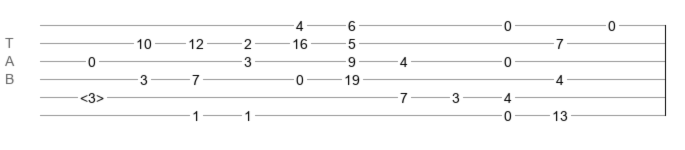0: (88, 54, 96, 64), (296, 72, 304, 82), (504, 18, 512, 28), (504, 54, 512, 64), (504, 108, 512, 118), (608, 18, 616, 28)
1: (192, 108, 200, 118), (244, 108, 252, 118)
10: (136, 36, 152, 46)
12: (188, 36, 204, 46)
13: (552, 108, 568, 118)
16: (292, 36, 308, 46)
19: (344, 72, 360, 82)
2: (244, 36, 252, 46)
3: (140, 72, 148, 82), (244, 54, 252, 64), (452, 90, 460, 100)
4: (296, 18, 304, 28), (400, 54, 408, 64), (504, 90, 512, 100), (556, 72, 564, 82)
5: (348, 36, 356, 46)
6: (348, 18, 356, 28)
7: (192, 72, 200, 82), (400, 90, 408, 100), (556, 36, 564, 46)
9: (348, 54, 356, 64)
harmonic: (80, 90, 104, 100)
